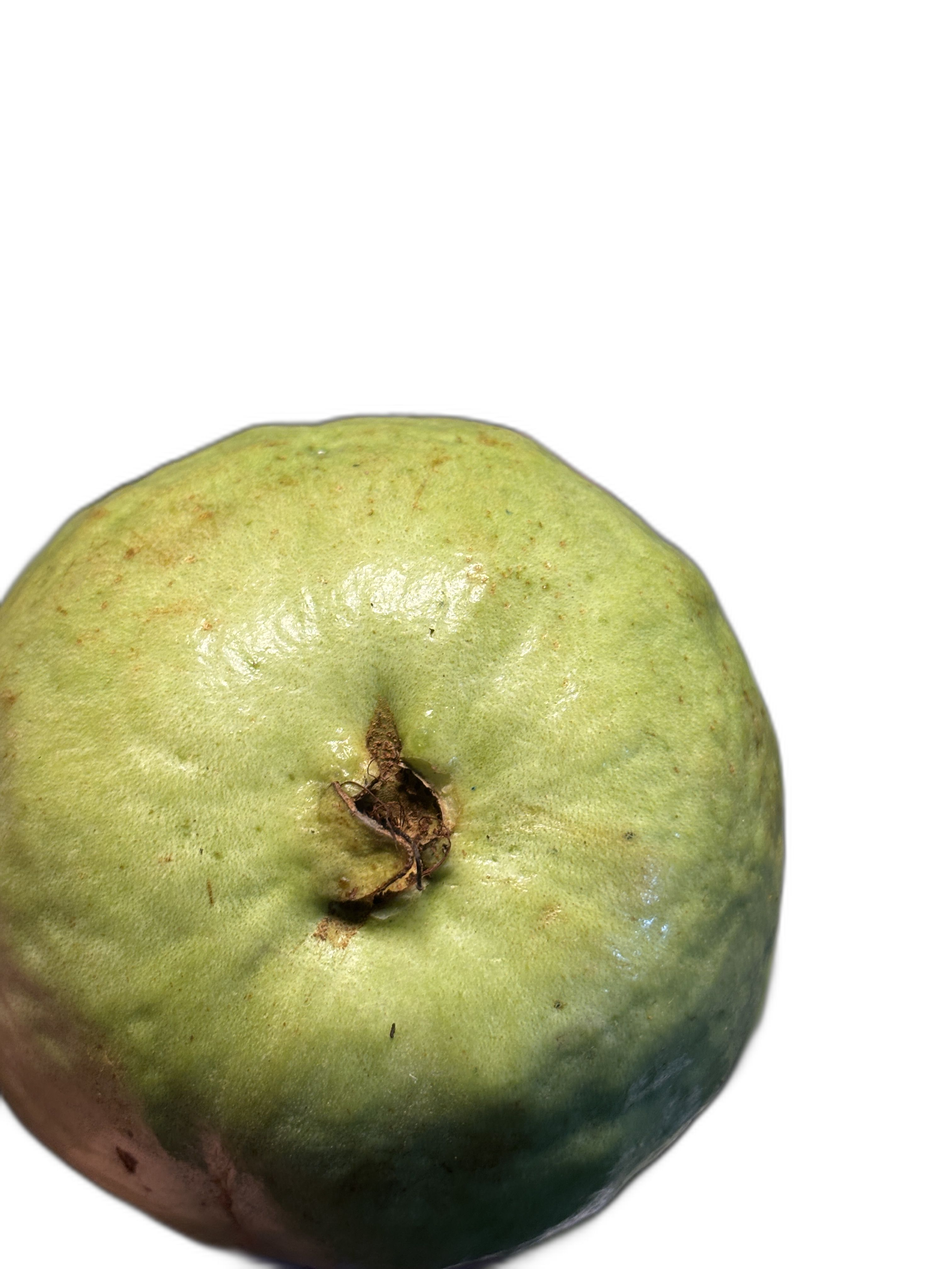guava: (195, 296, 884, 1112)
